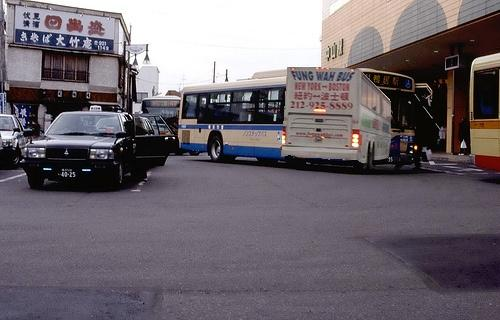tampered: (282, 68, 391, 169)
